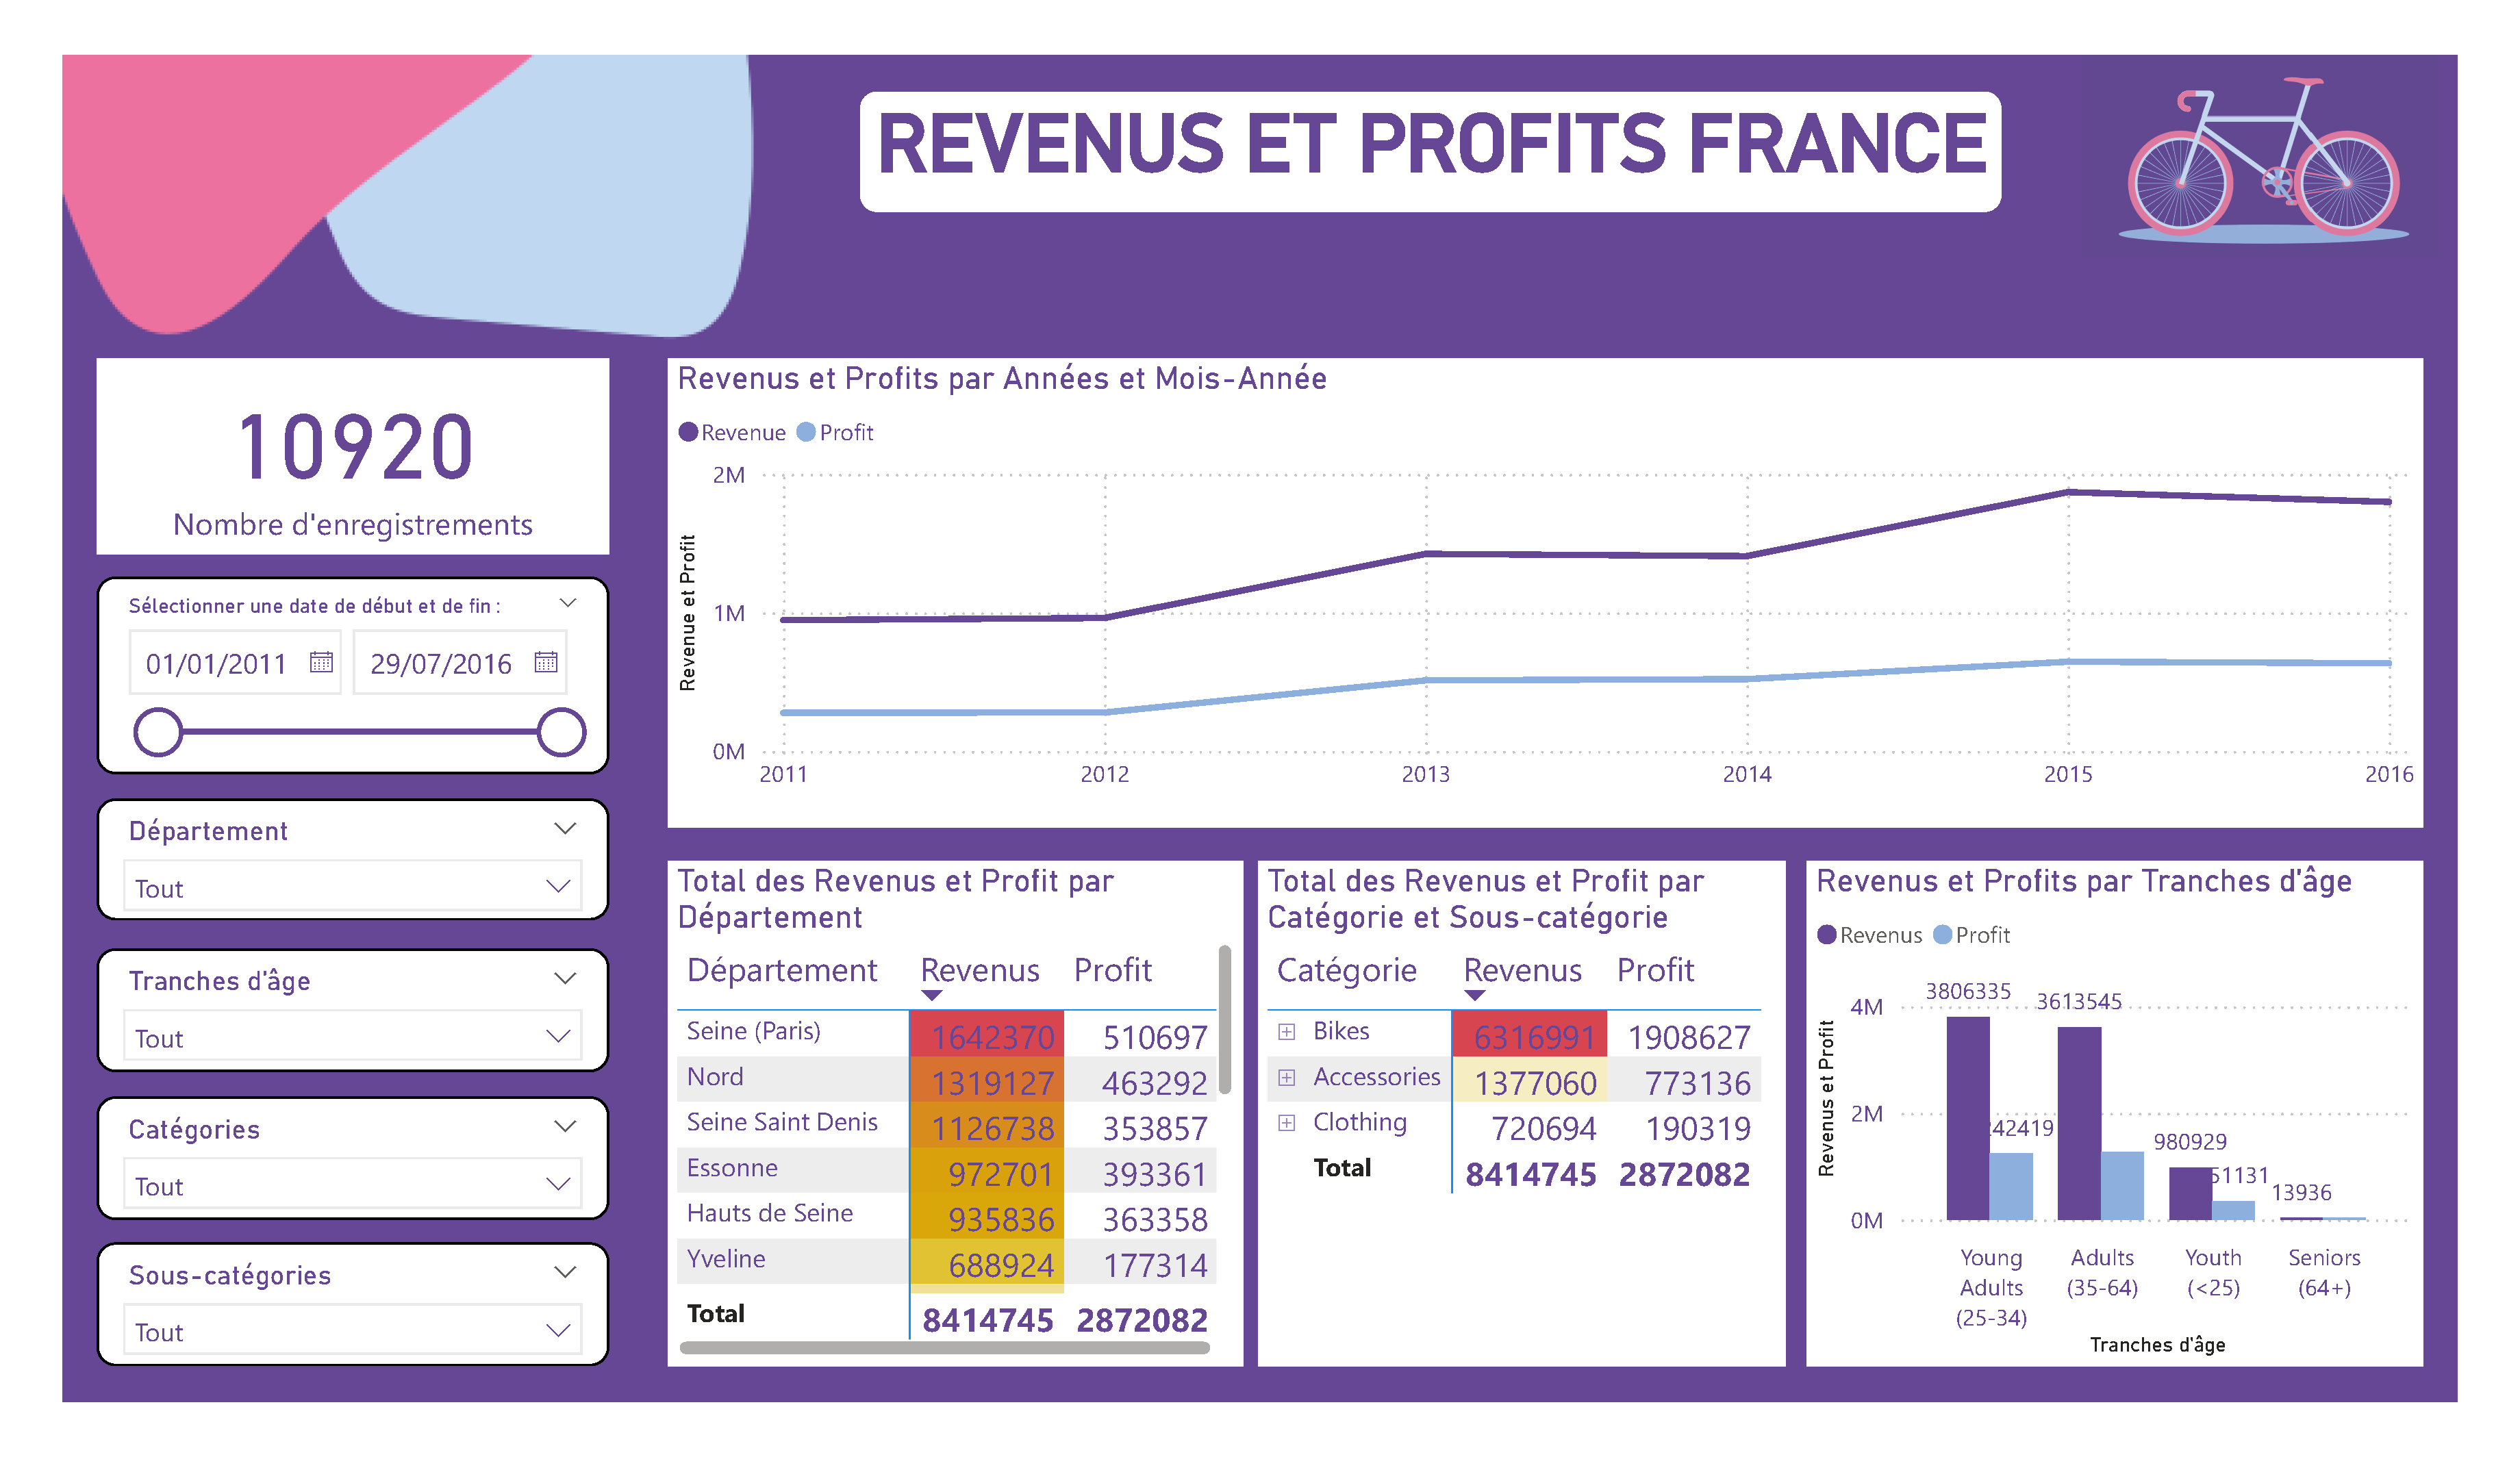

This screenshot's page, from the dashboard's own definition file:
{"tool":"powerbi","page":{"name":"Revenus et profits","canvas":[1280,720],"ordinal":2},"visuals":[{"type":"image","box":[0,0,1280.3,720.4],"z":0},{"type":"image","box":[1063.5,0,207.2,116.6],"z":1000},{"type":"textbox","title":"REVENUS ET PROFITS FRANCE","box":[428.1,23.3,603.8,65.9],"z":2000},{"type":"card","fields":{"Values":["CountNonNull(france_df.Date)"]},"box":[27.1,164.7,270.3,102.9],"z":3000},{"type":"slicer","fields":{"Values":["france_df.Date"]},"box":[27.1,279.9,270.3,104.3],"z":4000},{"type":"slicer","fields":{"Values":["france_df.State"]},"box":[27.1,396.6,270.3,64.5],"z":5000},{"type":"slicer","fields":{"Values":["france_df.Age_Group"]},"box":[27.1,476.2,270.3,64.5],"z":6000},{"type":"slicer","fields":{"Values":["france_df.Product_Category"]},"box":[27.1,554.4,270.3,64.5],"z":7000},{"type":"slicer","fields":{"Values":["france_df.Sub_Category"]},"box":[27.1,631.2,270.3,64.5],"z":8000},{"type":"lineChart","title":"Revenus et Profits par Années et Mois-Année","fields":{"Category":["france_df.Year","france_df.Month Year"],"Y":["Sum(france_df.Revenue)","Sum(france_df.Profit)"]},"box":[328,164.7,924.9,247],"z":9000},{"type":"pivotTable","title":"Total des Revenus et Profit par Département","fields":{"Rows":["france_df.State"],"Values":["Sum(france_df.Revenue)","Sum(france_df.Profit)"]},"box":[328,429.5,303.3,266.2],"z":10000},{"type":"pivotTable","title":"Total des Revenus et Profit par Catégorie et Sous-catégorie","fields":{"Rows":["france_df.Product_Category","france_df.Sub_Category"],"Values":["Sum(france_df.Revenue)","Sum(france_df.Profit)"]},"box":[639.5,429.5,277.2,266.2],"z":11000},{"type":"clusteredColumnChart","title":"Revenus et Profits par Tranches d''âge","fields":{"Category":["france_df.Age_Group"],"Y":["Sum(france_df.Revenue)","Sum(france_df.Profit)"]},"box":[927.6,429.5,325.2,266.2],"z":12000}]}

Visuals, with their boxes in screenshot pixels (x1, y1, x2, y2), scaled from the page's 1280x720 canvas onto the 2520x1457 screenshot:
image: detection(0, 0, 2519, 1456)
image: detection(2094, 0, 2502, 236)
"REVENUS ET PROFITS FRANCE" textbox: detection(843, 47, 2032, 181)
card - CountNonNull(france_df.Date): detection(53, 333, 585, 542)
slicer - france_df.Date: detection(53, 566, 585, 778)
slicer - france_df.State: detection(53, 802, 585, 933)
slicer - france_df.Age_Group: detection(53, 963, 585, 1094)
slicer - france_df.Product_Category: detection(53, 1122, 585, 1252)
slicer - france_df.Sub_Category: detection(53, 1278, 585, 1408)
"Revenus et Profits par Années et Mois-Année" lineChart: detection(646, 333, 2467, 833)
"Total des Revenus et Profit par Département" pivotTable: detection(646, 869, 1243, 1408)
"Total des Revenus et Profit par Catégorie et Sous-catégorie" pivotTable: detection(1259, 869, 1805, 1408)
"Revenus et Profits par Tranches d''âge" clusteredColumnChart: detection(1826, 869, 2467, 1408)
